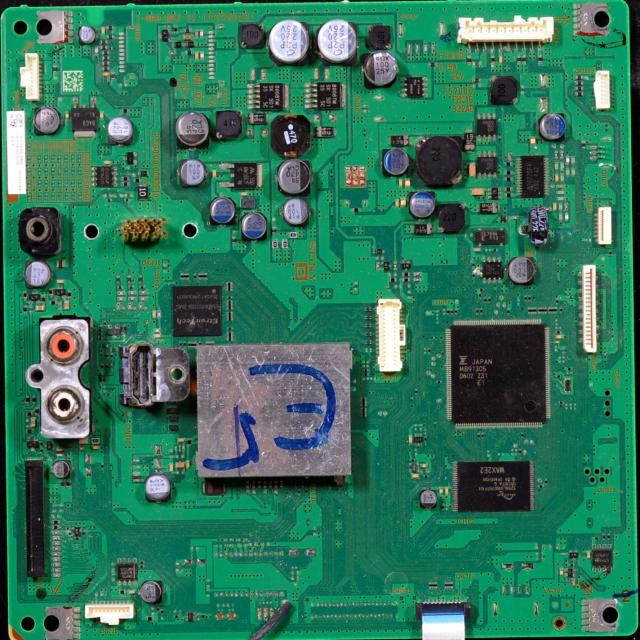Capacitor: (266, 18, 316, 65), (170, 105, 214, 154), (318, 20, 359, 66), (273, 157, 317, 196), (103, 115, 145, 147), (178, 159, 208, 194), (144, 473, 175, 505), (407, 191, 438, 223), (30, 107, 65, 135), (240, 210, 268, 244), (208, 197, 240, 226), (20, 260, 53, 288), (280, 200, 314, 227), (380, 148, 410, 178), (411, 488, 441, 512), (75, 24, 96, 48), (52, 461, 73, 480), (466, 159, 477, 182), (247, 67, 259, 81), (176, 434, 189, 446), (79, 436, 92, 448), (392, 195, 401, 212), (526, 134, 536, 149), (470, 186, 486, 195), (405, 432, 414, 447), (35, 304, 49, 313), (149, 308, 158, 322), (30, 414, 39, 428), (62, 299, 73, 310), (176, 460, 187, 471), (582, 549, 592, 561), (213, 165, 221, 180), (240, 188, 250, 199), (497, 53, 506, 65), (419, 462, 432, 470), (557, 565, 564, 579), (400, 197, 407, 211), (313, 68, 321, 80), (404, 178, 412, 190), (169, 462, 176, 475), (181, 34, 196, 40), (99, 110, 107, 121), (553, 200, 560, 212), (261, 68, 267, 81), (554, 183, 567, 189), (397, 178, 404, 189), (438, 485, 444, 497), (99, 25, 107, 34), (152, 332, 164, 338), (570, 578, 577, 588), (326, 68, 332, 79), (101, 71, 112, 77), (554, 171, 560, 182), (55, 278, 66, 284), (65, 111, 71, 121), (187, 459, 192, 470), (412, 474, 422, 479), (444, 486, 449, 496), (195, 52, 200, 62), (104, 159, 112, 165), (90, 447, 102, 451)
Connector: (567, 261, 616, 363), (446, 10, 564, 47), (372, 296, 410, 376), (84, 600, 143, 632), (590, 206, 622, 252), (18, 53, 46, 103), (590, 69, 614, 119)
IC: (443, 322, 557, 430), (451, 460, 541, 516), (167, 283, 226, 338), (221, 159, 267, 193), (306, 80, 352, 112), (248, 82, 294, 112)
Resistor Network: (362, 49, 400, 93), (388, 276, 399, 286), (428, 61, 441, 69), (488, 54, 497, 65), (503, 185, 517, 192), (166, 50, 178, 58), (522, 53, 530, 65), (31, 394, 39, 406), (390, 261, 400, 270), (23, 396, 32, 406), (501, 160, 512, 168), (503, 169, 514, 177), (466, 54, 473, 66), (574, 73, 586, 80), (516, 54, 522, 67), (574, 90, 587, 96), (503, 192, 516, 198), (198, 28, 204, 41), (553, 150, 560, 161), (101, 66, 111, 73), (156, 309, 163, 319), (504, 175, 515, 181), (121, 176, 132, 182), (34, 407, 42, 415), (403, 271, 412, 278), (106, 25, 115, 32), (536, 54, 542, 64), (581, 140, 587, 150), (559, 150, 565, 160), (572, 80, 586, 84), (134, 177, 142, 184), (574, 86, 585, 91), (186, 49, 193, 56), (102, 61, 110, 67), (404, 277, 412, 283), (173, 26, 179, 34), (107, 34, 115, 40), (100, 40, 109, 45), (183, 29, 194, 33), (102, 50, 110, 55), (200, 52, 204, 62), (101, 55, 111, 59), (376, 261, 380, 271), (26, 411, 34, 416), (122, 182, 129, 186), (102, 45, 108, 49)
